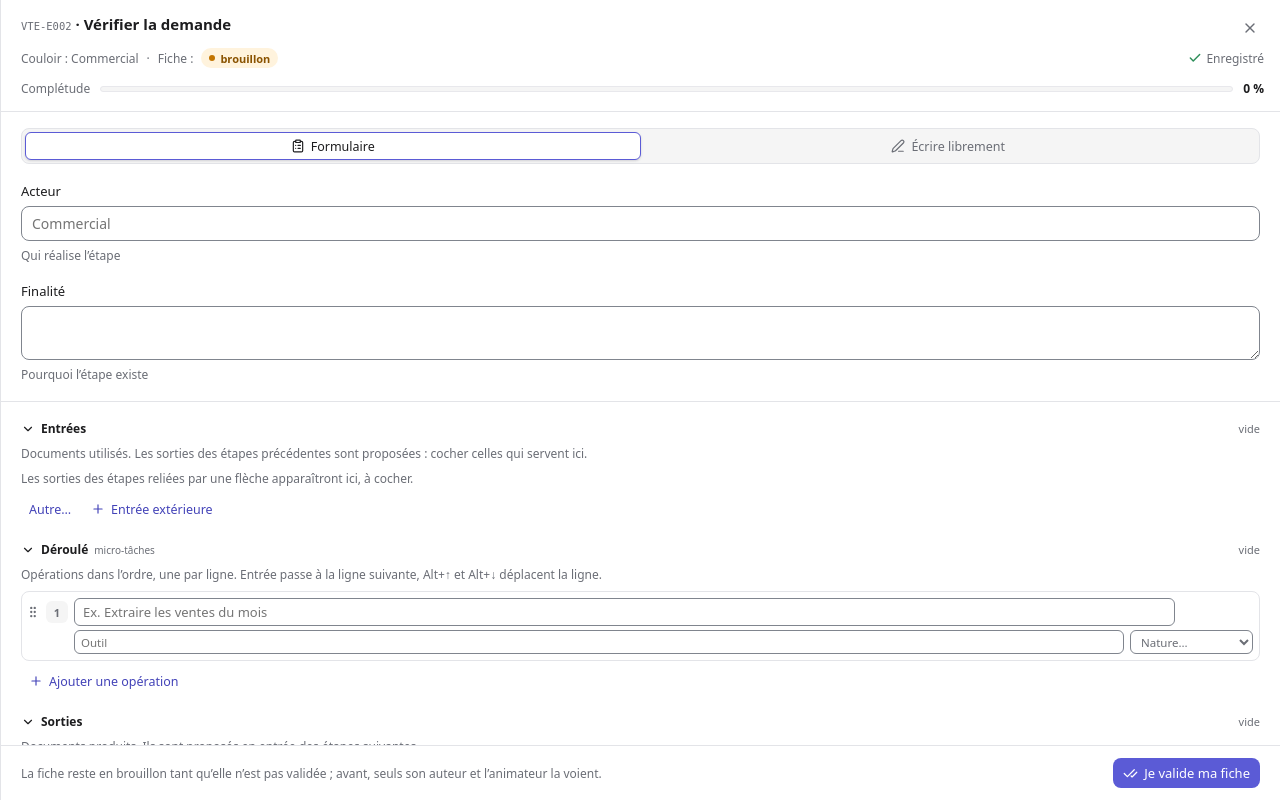
Test: the validation (B-4-51 to B-4-53) › a saving that fails stops the validation: the host would fix another content than the one shown
The image size is (1280, 800).
Type "Facturer" into the text box with test id "sheet-purpose" at (640, 333), box [21,306,1260,360]
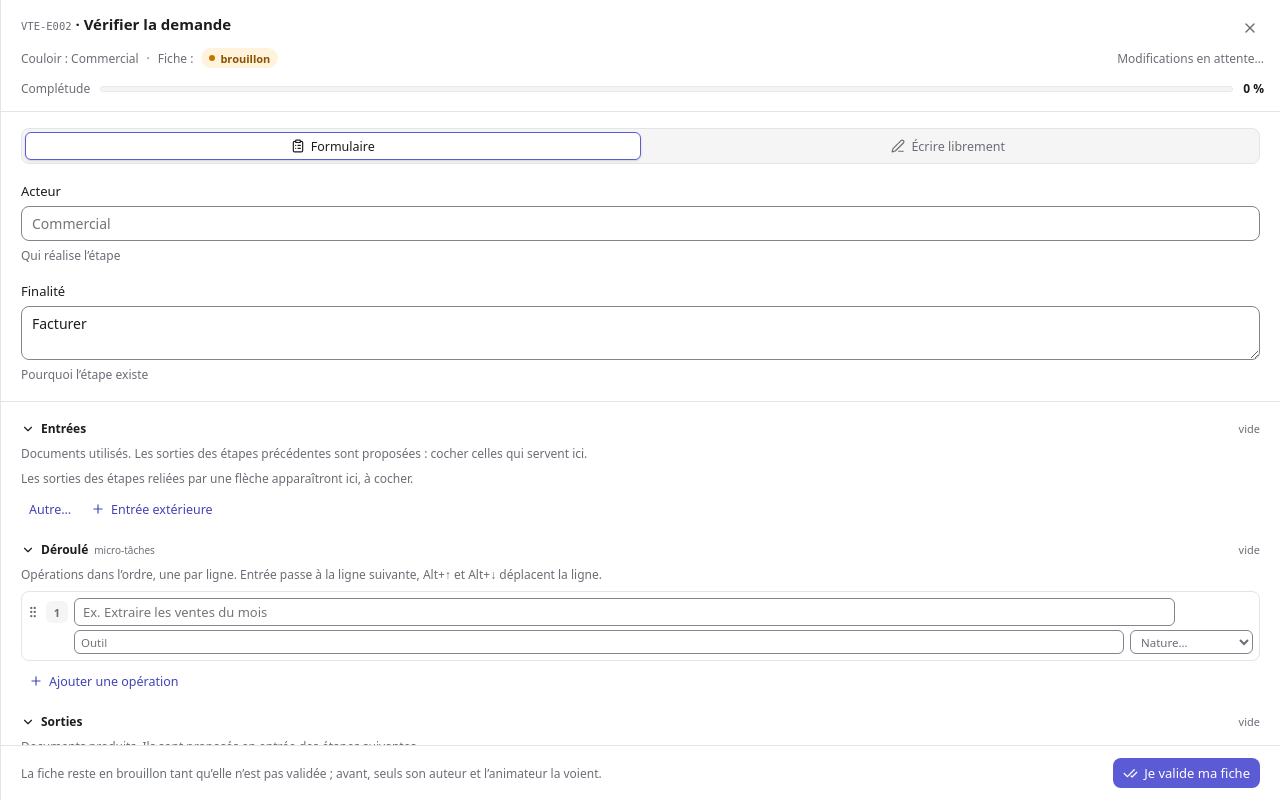
Click the button "Je valide ma fiche" at (1187, 773), box [1113,758,1260,788]
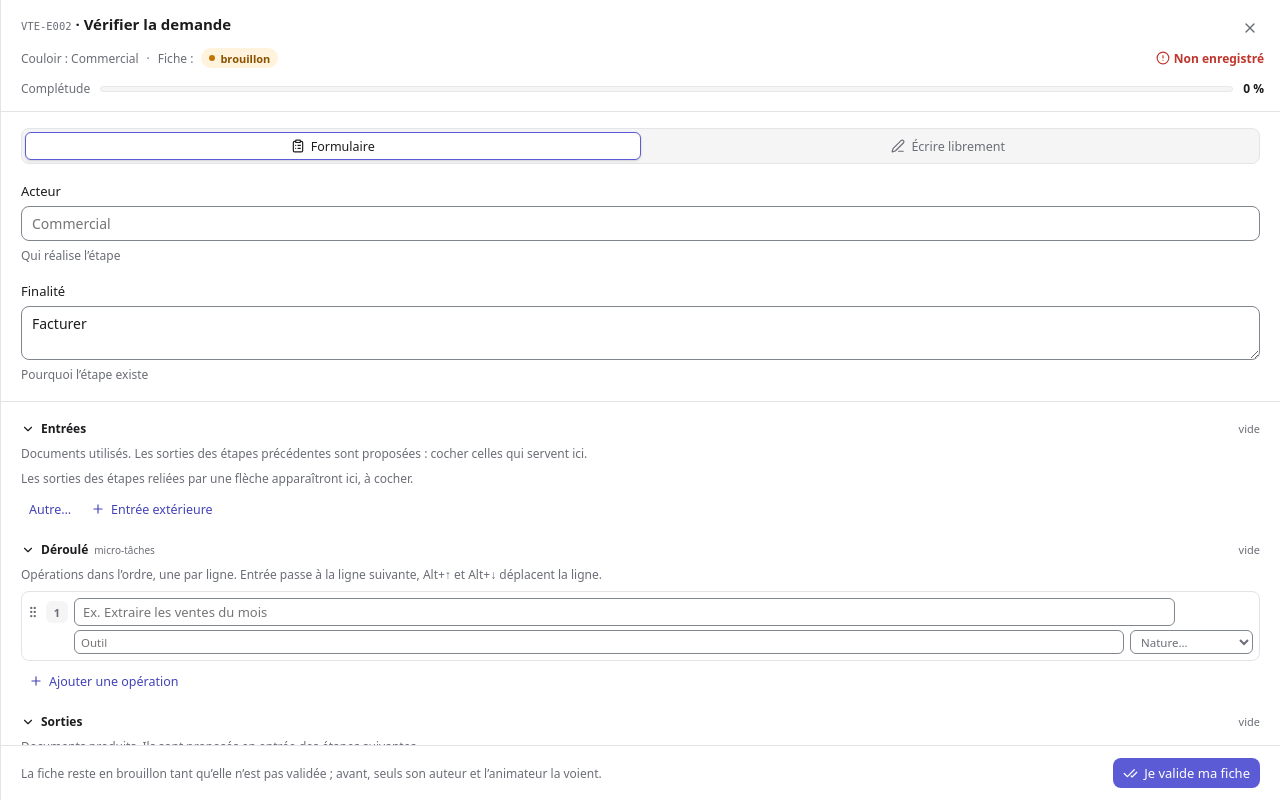
expect the message with test id "sheet-saving" reads "Non enregistré": met, box [1174,50,1264,66]
